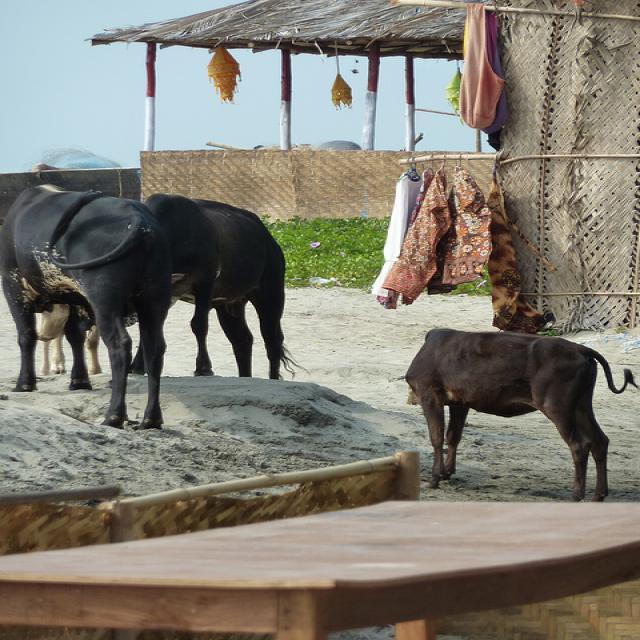cow: (0, 182, 171, 431), (402, 327, 638, 504), (141, 196, 284, 379)
